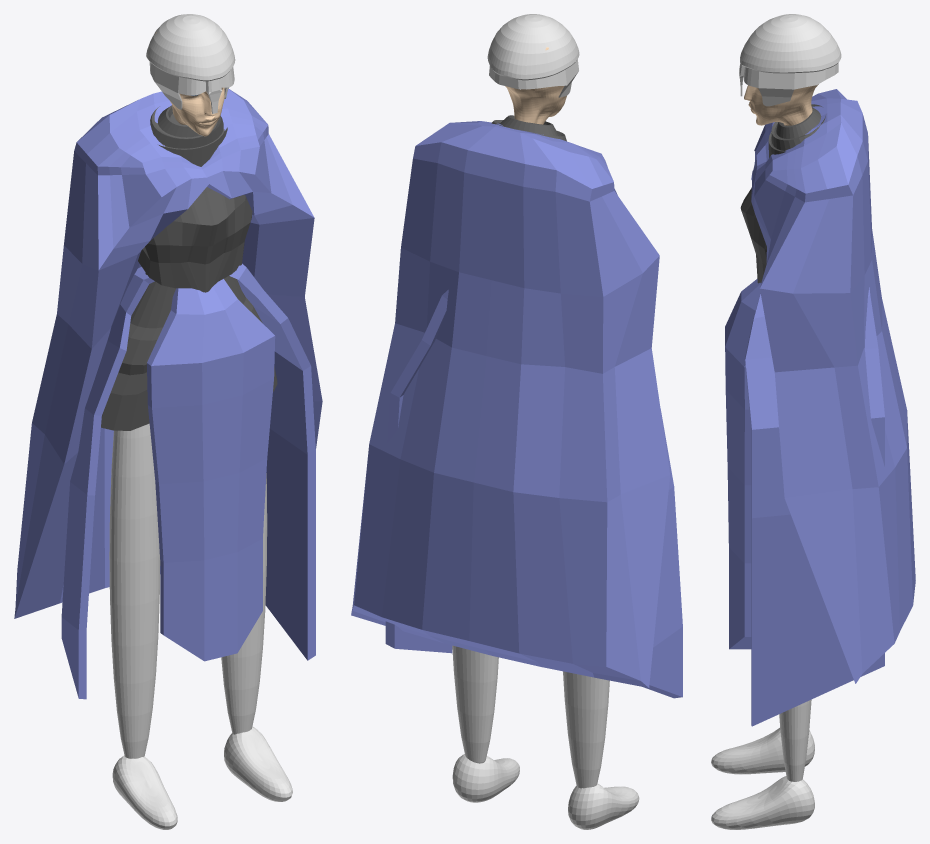
File: Chara4.fbx
The picture shows the model from 3 angles, left to right: view 1: azimuth 30°, elevation 25°; view 2: azimuth 150°, elevation 25°; view 3: azimuth 270°, elevation 25°; orthographic projection. The views are drawn at different scales.
Parts seen in each view (by area): view 1: LowerCloth, Cloack, LegR, Armor1, Cylinder, Sphere.001, LegL, FootL, FootR, NeckArmor, Cube, Head; view 2: Cloack, LowerCloth, Sphere.001, LegR, LegL, FootR, FootL, Head, Cube, NeckArmor; view 3: Cloack, LowerCloth, Sphere.001, FootL, FootR, Cube, LegL, Head, NeckArmor, Armor1.
Part boxes in pixels (<box>): LowerCloth: <box>61,263,315,699</box>; Cloack: <box>14,89,322,618</box>; LegR: <box>109,423,160,758</box>; Armor1: <box>138,129,252,292</box>; Cylinder: <box>101,273,277,430</box>; Sphere.001: <box>146,14,235,81</box>; LegL: <box>221,473,267,734</box>; FootL: <box>224,726,292,801</box>; FootR: <box>112,755,177,829</box>; NeckArmor: <box>150,105,227,166</box>; Cube: <box>149,62,234,113</box>; Head: <box>155,32,224,136</box>; Cloack: <box>351,121,669,687</box>; LowerCloth: <box>385,289,682,698</box>; Sphere.001: <box>487,14,579,80</box>; LegR: <box>563,671,609,788</box>; LegL: <box>452,645,498,763</box>; FootR: <box>568,783,639,829</box>; FootL: <box>452,754,519,802</box>; Head: <box>505,47,566,124</box>; Cube: <box>489,59,578,97</box>; NeckArmor: <box>491,115,566,141</box>; Cloack: <box>751,89,915,683</box>; LowerCloth: <box>725,279,884,726</box>; Sphere.001: <box>740,14,841,73</box>; FootL: <box>711,776,814,829</box>; FootR: <box>711,727,814,774</box>; Cube: <box>739,63,838,106</box>; LegL: <box>779,699,811,781</box>; Head: <box>744,84,818,125</box>; NeckArmor: <box>768,104,825,157</box>; Armor1: <box>740,150,785,283</box>.
Size of the model in its own units: 396 by 1015 by 241.
